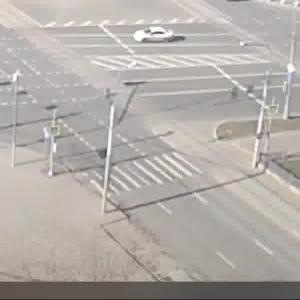car: (133, 26, 181, 49)
